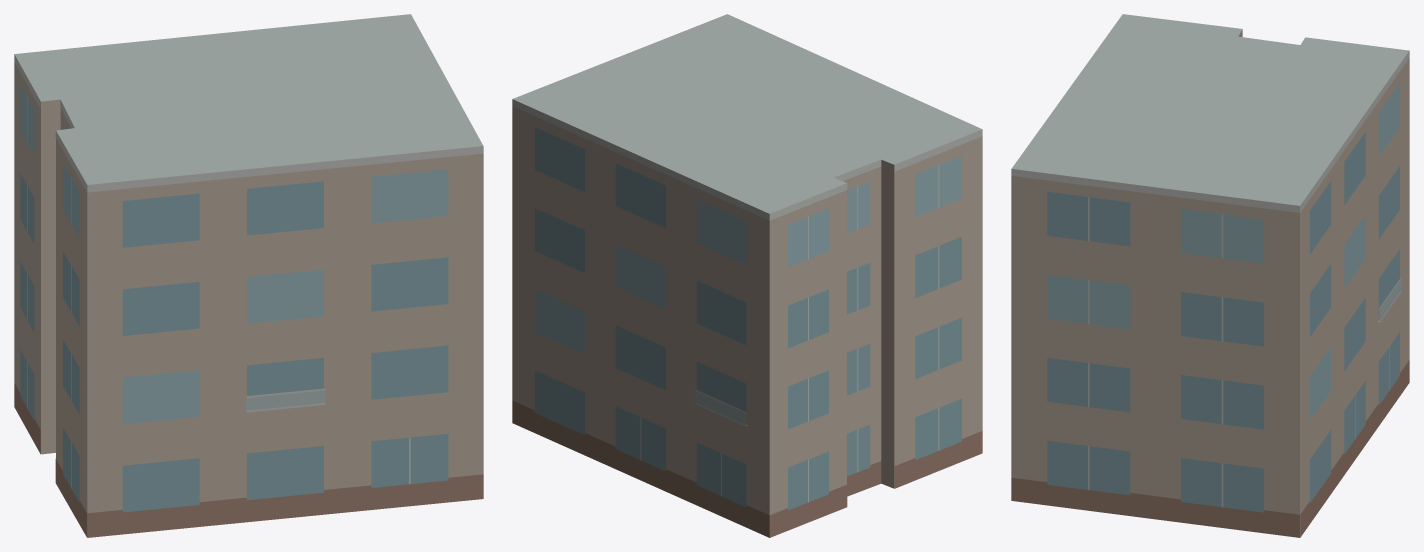
File: survey-upis-32878863.glb
3 views of the same model, side by side, from view 1: azimuth 30°, elevation 25°; view 2: azimuth 150°, elevation 25°; view 3: azimuth 270°, elevation 25° (orthographic). The views are drawn at different scales.
Visible parts, largest first — view 1: survey-upis-32878863.tmp; view 2: survey-upis-32878863.tmp; view 3: survey-upis-32878863.tmp.
Boxes of the visible parts, x1,y1,x2,y2 form: survey-upis-32878863.tmp: (14,14,483,537); survey-upis-32878863.tmp: (512,14,982,537); survey-upis-32878863.tmp: (1011,14,1409,537).
Size of the model in its own units: 14.27 by 11.5 by 12.51.
